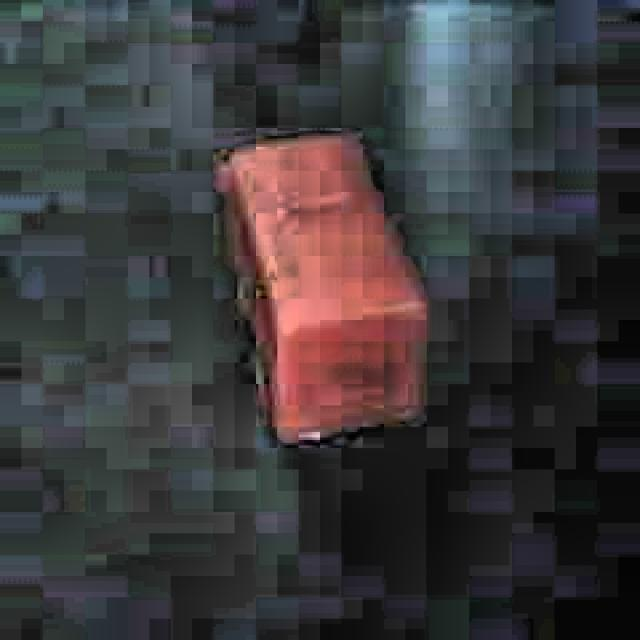bus: (210, 130, 435, 447)
